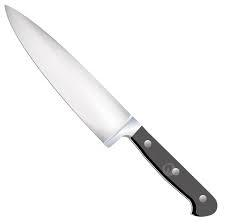Knife: (3, 4, 217, 216)
